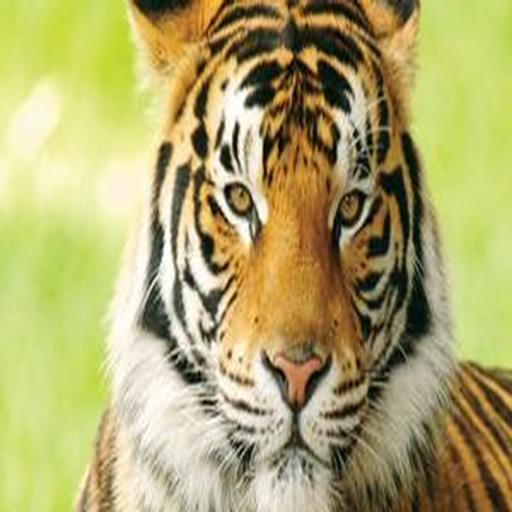Tiger: (60, 0, 512, 512)
